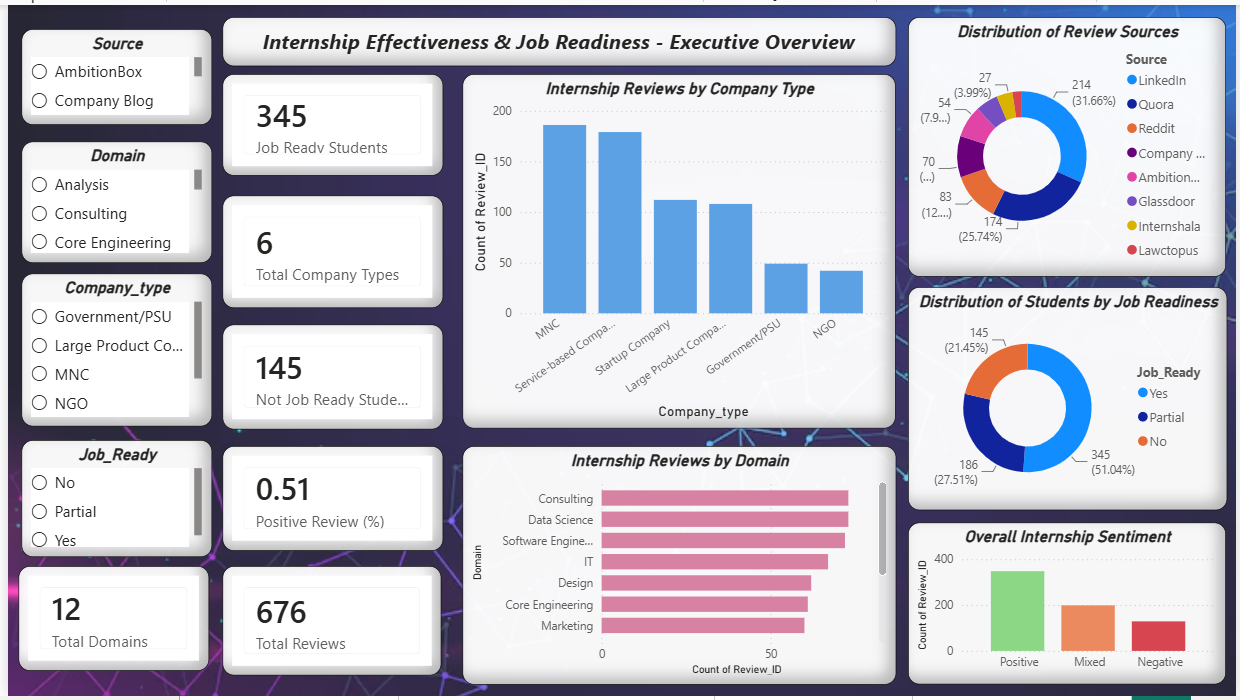

What the dashboard file says about the page in this screenshot:
{"tool":"powerbi","page":{"name":"Executive Overview","canvas":[1280,720],"ordinal":0},"visuals":[{"type":"textbox","box":[223.5,12.5,701.8,51.6],"z":0},{"type":"cardVisual","fields":{"Data":["Internship_Experience_dataset_Final.Total Reviews"]},"box":[223.5,584.6,228.2,114.1],"z":1000},{"type":"cardVisual","fields":{"Data":["Internship_Experience_dataset_Final.Job Ready Students"]},"box":[223.5,71.9,229.8,106.3],"z":2000},{"type":"cardVisual","fields":{"Data":["Internship_Experience_dataset_Final.Not Job Ready Students"]},"box":[223.5,332.9,229.8,109.4],"z":3000},{"type":"cardVisual","fields":{"Data":["Internship_Experience_dataset_Final.Positive Review (%)"]},"box":[223.5,459.5,229.8,109.4],"z":4000},{"type":"cardVisual","fields":{"Data":["Internship_Experience_dataset_Final.Total Domains"]},"box":[10.9,584.6,198.5,109.4],"z":5000},{"type":"cardVisual","fields":{"Data":["Internship_Experience_dataset_Final.Total Company Types"]},"box":[223.5,198.5,229.8,117.2],"z":6000},{"type":"donutChart","title":"Distribution of Students by Job Readiness","fields":{"Category":["Internship_Experience_dataset_Final.Job_Ready"],"Y":["CountNonNull(Internship_Experience_dataset_Final.Review_ID)"]},"box":[937.8,293.8,332.9,232.9],"z":7000},{"type":"clusteredBarChart","title":"Internship Reviews by Domain","fields":{"Category":["Internship_Experience_dataset_Final.Domain"],"Y":["CountNonNull(Internship_Experience_dataset_Final.Review_ID)"]},"box":[473.6,459.5,451.7,248.5],"z":8000},{"type":"clusteredColumnChart","title":"Internship Reviews by Company Type","fields":{"Category":["Internship_Experience_dataset_Final.Company_type"],"Y":["CountNonNull(Internship_Experience_dataset_Final.Review_ID)"]},"box":[474.2,72.6,451.6,369.4],"z":9000},{"type":"columnChart","title":"Overall Internship Sentiment","fields":{"Category":["Internship_Experience_dataset_Final.Overall_Sentiment"],"Y":["CountNonNull(Internship_Experience_dataset_Final.Review_ID)"]},"box":[937.8,539.2,331.4,168.8],"z":10000},{"type":"donutChart","title":"Distribution of Review Sources","fields":{"Category":["Internship_Experience_dataset_Final.Source"],"Y":["CountNonNull(Internship_Experience_dataset_Final.Review_ID)"]},"box":[937.8,12.5,331.4,270.4],"z":11000},{"type":"listSlicer","fields":{"Values":["Internship_Experience_dataset_Final.Source"]},"box":[14.1,25,198.5,100],"z":12000},{"type":"listSlicer","fields":{"Values":["Internship_Experience_dataset_Final.Domain"]},"box":[14.1,142.2,198.5,126.6],"z":13000},{"type":"listSlicer","fields":{"Values":["Internship_Experience_dataset_Final.Company_type"]},"box":[14.1,279.8,198.5,159.4],"z":14000},{"type":"listSlicer","fields":{"Values":["Internship_Experience_dataset_Final.Job_Ready"]},"box":[14.1,453.3,198.5,121.9],"z":15000}]}

Visuals, with their boxes in screenshot pixels (x1, y1, x2, y2), scaled from the page's 1280x720 canvas onto the 1240x700 screenshot:
textbox: pyautogui.locateOnScreen(217, 12, 896, 62)
cardVisual - Internship_Experience_dataset_Final.Total Reviews: pyautogui.locateOnScreen(217, 568, 438, 679)
cardVisual - Internship_Experience_dataset_Final.Job Ready Students: pyautogui.locateOnScreen(217, 70, 439, 173)
cardVisual - Internship_Experience_dataset_Final.Not Job Ready Students: pyautogui.locateOnScreen(217, 324, 439, 430)
cardVisual - Internship_Experience_dataset_Final.Positive Review (%): pyautogui.locateOnScreen(217, 447, 439, 553)
cardVisual - Internship_Experience_dataset_Final.Total Domains: pyautogui.locateOnScreen(11, 568, 203, 675)
cardVisual - Internship_Experience_dataset_Final.Total Company Types: pyautogui.locateOnScreen(217, 193, 439, 307)
"Distribution of Students by Job Readiness" donutChart: pyautogui.locateOnScreen(908, 286, 1231, 512)
"Internship Reviews by Domain" clusteredBarChart: pyautogui.locateOnScreen(459, 447, 896, 688)
"Internship Reviews by Company Type" clusteredColumnChart: pyautogui.locateOnScreen(459, 71, 897, 430)
"Overall Internship Sentiment" columnChart: pyautogui.locateOnScreen(908, 524, 1230, 688)
"Distribution of Review Sources" donutChart: pyautogui.locateOnScreen(908, 12, 1230, 275)
listSlicer - Internship_Experience_dataset_Final.Source: pyautogui.locateOnScreen(14, 24, 206, 122)
listSlicer - Internship_Experience_dataset_Final.Domain: pyautogui.locateOnScreen(14, 138, 206, 261)
listSlicer - Internship_Experience_dataset_Final.Company_type: pyautogui.locateOnScreen(14, 272, 206, 427)
listSlicer - Internship_Experience_dataset_Final.Job_Ready: pyautogui.locateOnScreen(14, 441, 206, 559)
